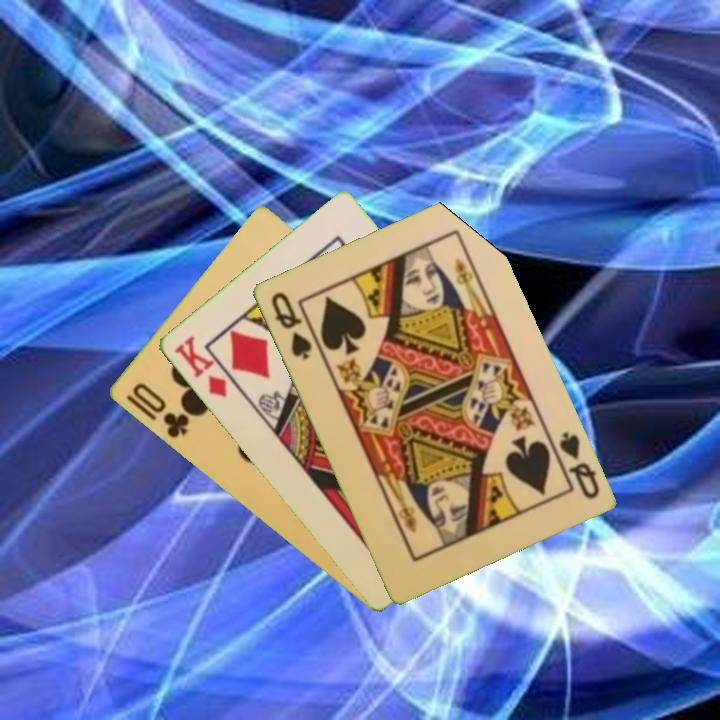10c: (128, 379, 192, 441)
Kd: (170, 331, 230, 401)
Qs: (267, 288, 315, 363), (555, 428, 602, 502)
